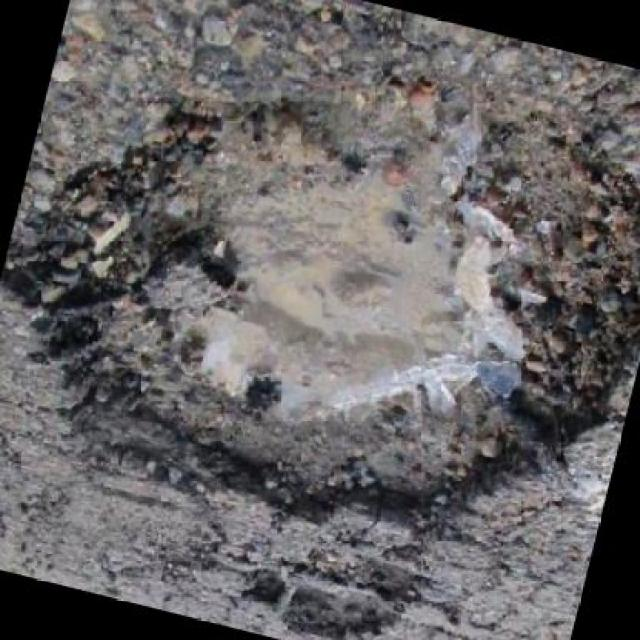pothole1: (0, 0, 638, 603), (232, 512, 446, 638)
